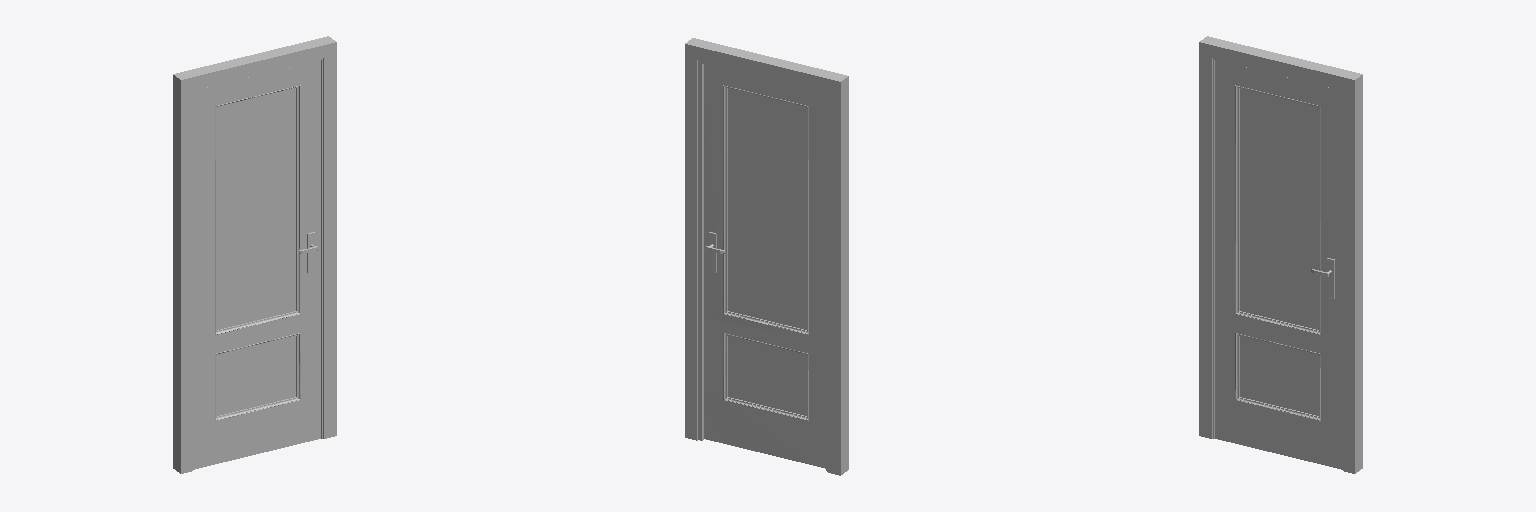
Rendered from puerta.obj.
The picture shows the model from 3 angles: view 1: azimuth 30°, elevation 25°; view 2: azimuth 150°, elevation 25°; view 3: azimuth 330°, elevation 25°; orthographic projection.
Visible parts, largest first — view 1: door_Mesh, marc_Cube; view 2: door_Mesh, marc_Cube; view 3: door_Mesh, marc_Cube.
Boxes of the visible parts, x1=… form: door_Mesh: x1=194, y1=60, x2=320, y2=469; marc_Cube: x1=173, y1=36, x2=336, y2=473; door_Mesh: x1=704, y1=64, x2=825, y2=468; marc_Cube: x1=685, y1=38, x2=848, y2=475; door_Mesh: x1=1215, y1=60, x2=1341, y2=469; marc_Cube: x1=1199, y1=36, x2=1362, y2=473.
Size of the model in its own units: 87.38 by 211 by 13.81.